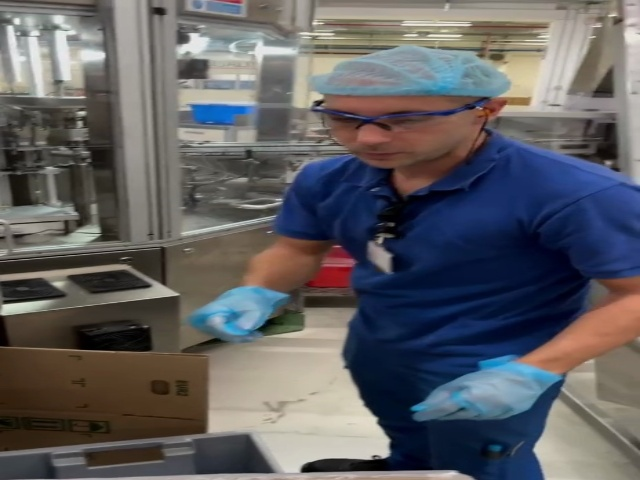Earplug: (475, 101, 508, 121)
Hairnet: (325, 49, 498, 95)
No_Helmet: (325, 53, 493, 96)
No_Vest: (299, 160, 640, 367)
Person: (223, 43, 638, 472)
Safety_Goggles: (312, 98, 489, 127)
